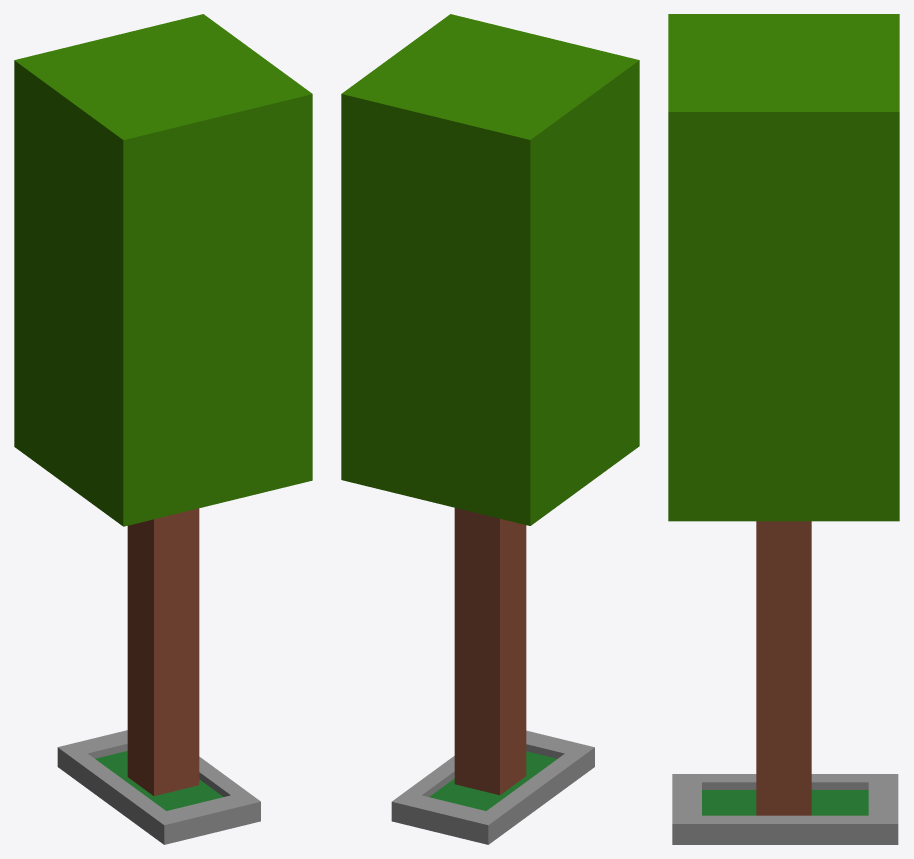
File: Treethree.fbx
3 views of the same model, side by side, from view 1: azimuth 30°, elevation 25°; view 2: azimuth 150°, elevation 25°; view 3: azimuth 270°, elevation 25° (orthographic). The views are drawn at different scales.
Parts seen in each view (by area): view 1: pCube13; view 2: pCube13; view 3: pCube13.
Part boxes in pixels (box(x1,y1,x2,y2)): pCube13: box(14, 14, 312, 844); pCube13: box(341, 14, 639, 844); pCube13: box(668, 14, 899, 844).
Size of the model in its own units: 1.67 by 6.04 by 1.67.
